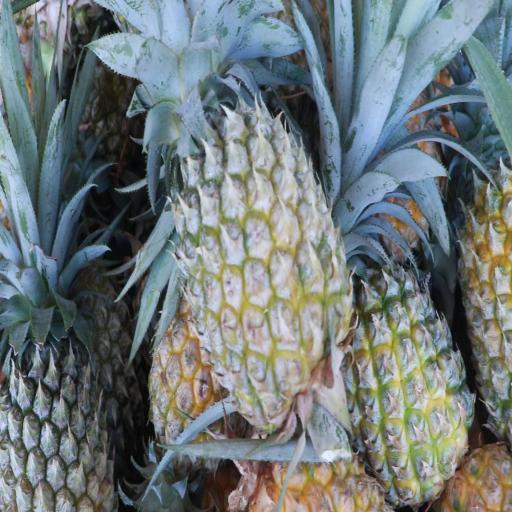------------------------------: (182, 90, 339, 412)
Pineapple - v8 v1: (348, 271, 467, 498), (453, 171, 512, 436), (145, 310, 228, 459)
